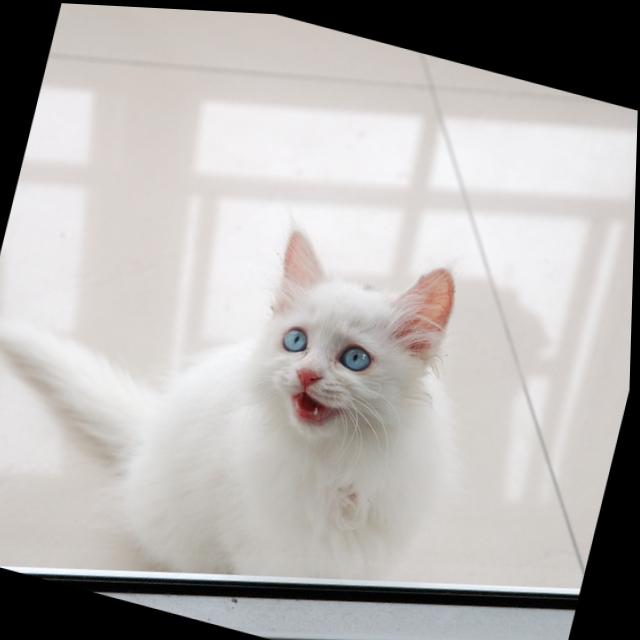animals: (261, 223, 449, 409)
